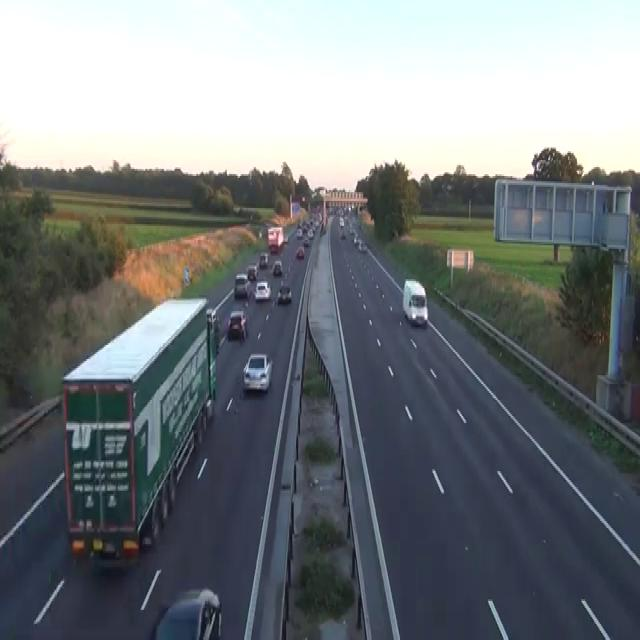Car: (153, 587, 222, 638), (242, 352, 272, 393), (206, 308, 219, 356), (227, 310, 247, 340), (233, 274, 249, 298), (254, 281, 271, 300), (277, 284, 292, 302), (272, 260, 282, 276), (247, 265, 257, 279), (295, 246, 304, 260), (259, 252, 268, 266), (358, 240, 367, 252), (319, 222, 326, 235), (295, 228, 302, 238), (233, 204, 240, 213), (348, 224, 355, 233), (446, 183, 453, 192), (307, 228, 313, 238), (270, 244, 277, 252), (303, 237, 309, 246), (353, 234, 359, 243), (339, 217, 344, 227), (255, 263, 259, 274), (340, 231, 346, 238), (283, 236, 288, 244), (258, 230, 262, 238)
Truck: (61, 295, 219, 569), (402, 278, 427, 326), (267, 226, 283, 252)
